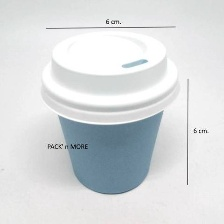paper_cup: (32, 27, 185, 199)
